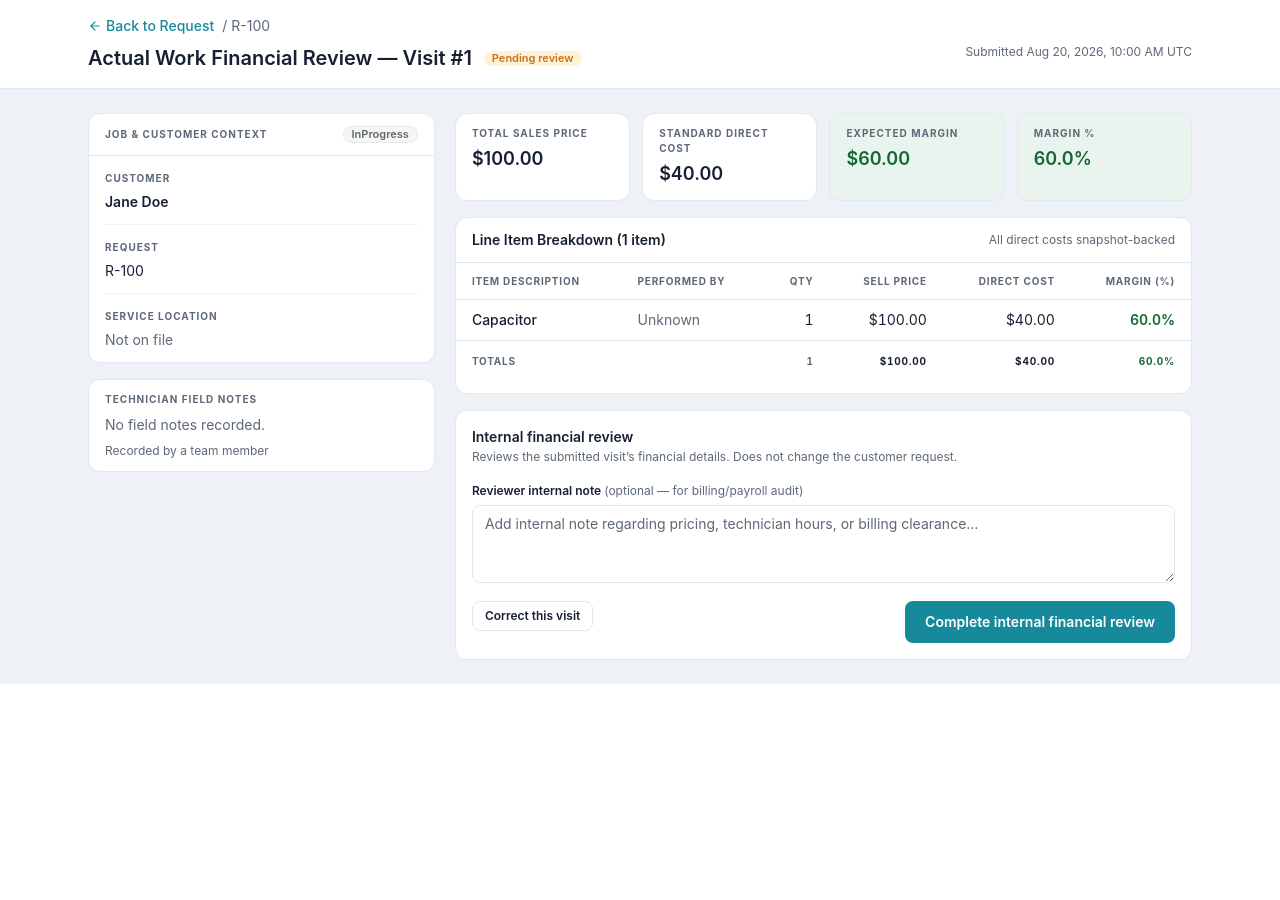
ActualWorkWorkspacePage — 4f-ii office region › confirms after a successful review that the customer request status is unchanged
What coordinates should you click on to do the following:
click the button "Complete internal financial review"
I would click on:
 (1040, 622)
Its box is [905,601,1175,643].
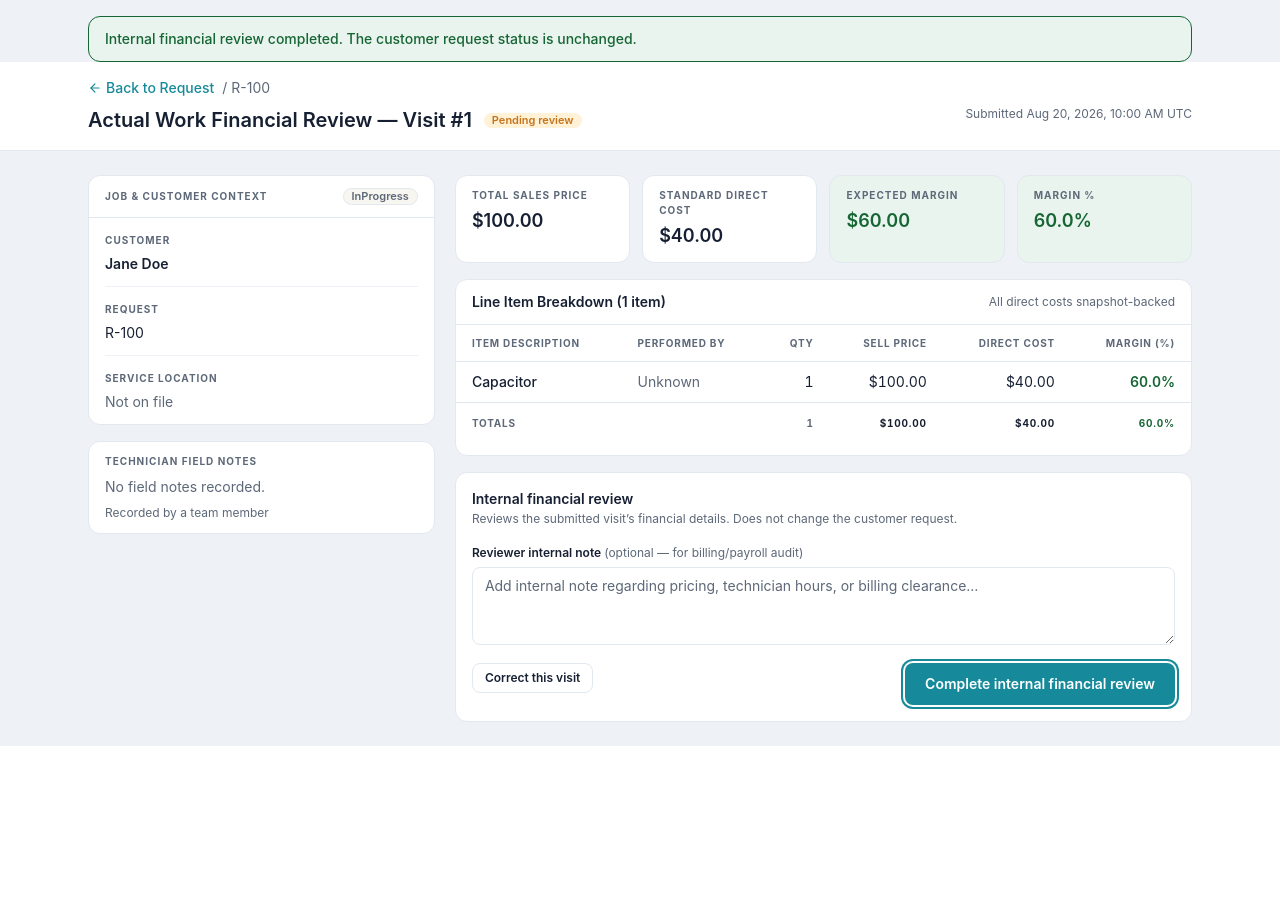
Check: the text "Internal financial review completed. The customer request status is unchanged." is shown, box [88,16,1192,62]
